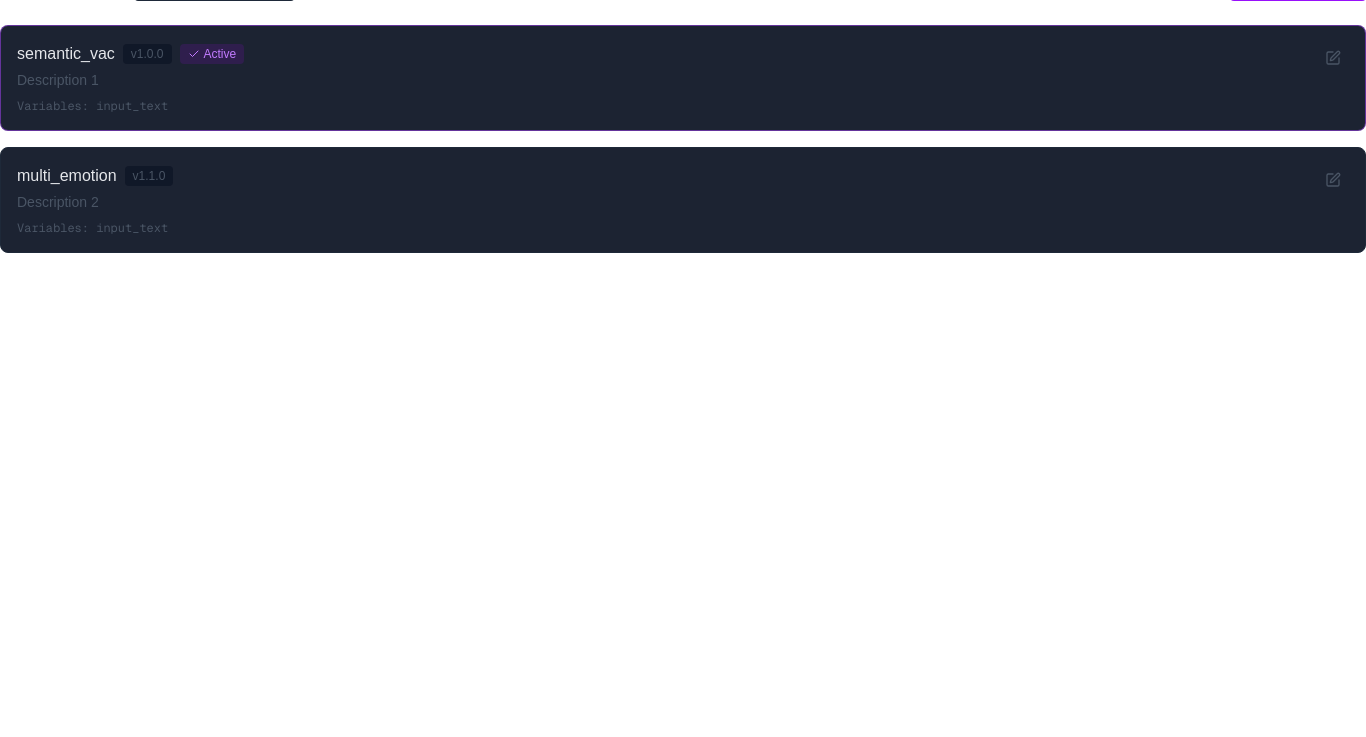
Scenario: PromptTemplatesTab › handles test render error
Step 1. Click the button with test id "edit-btn-uuid-1" → click(1333, 58), box top-left (1317, 42), bottom-right (1349, 74)
(page scrolled)
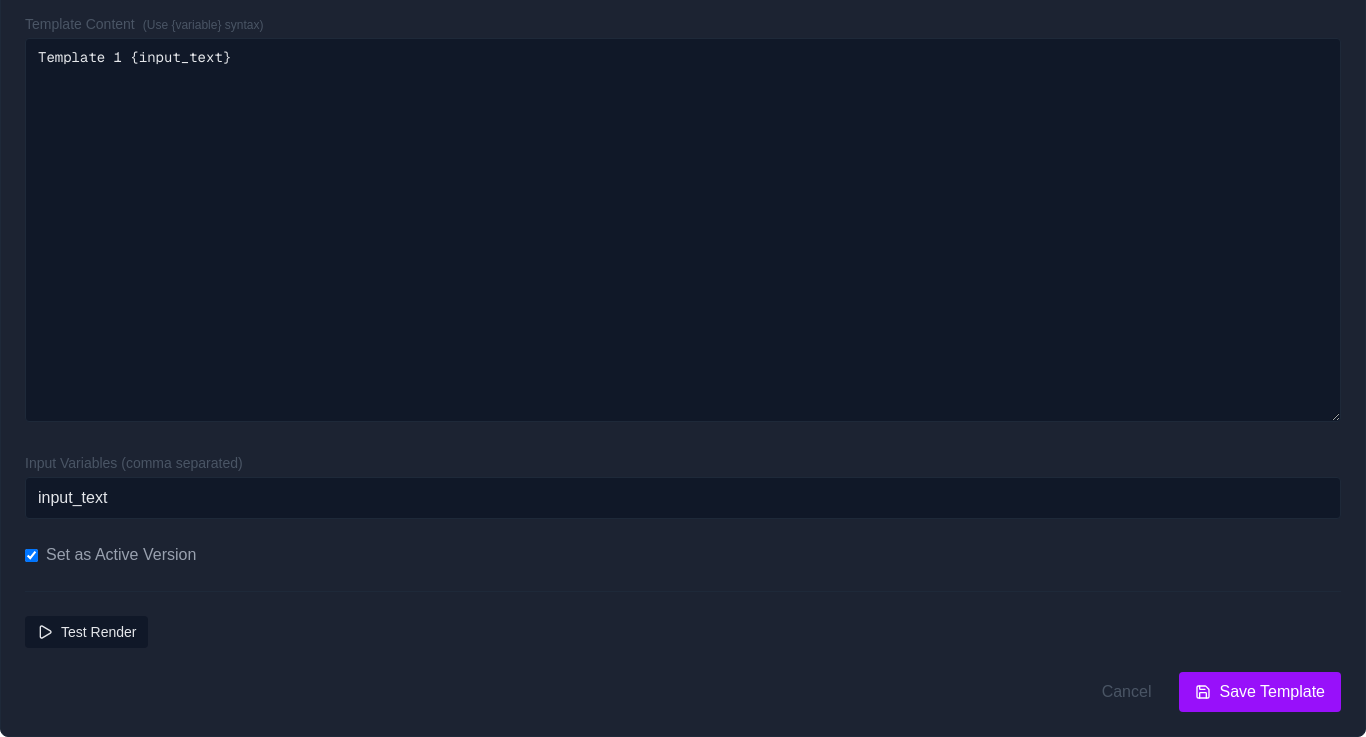
Step 2. Click the button "Test Render" → click(87, 632), box top-left (25, 616), bottom-right (148, 648)
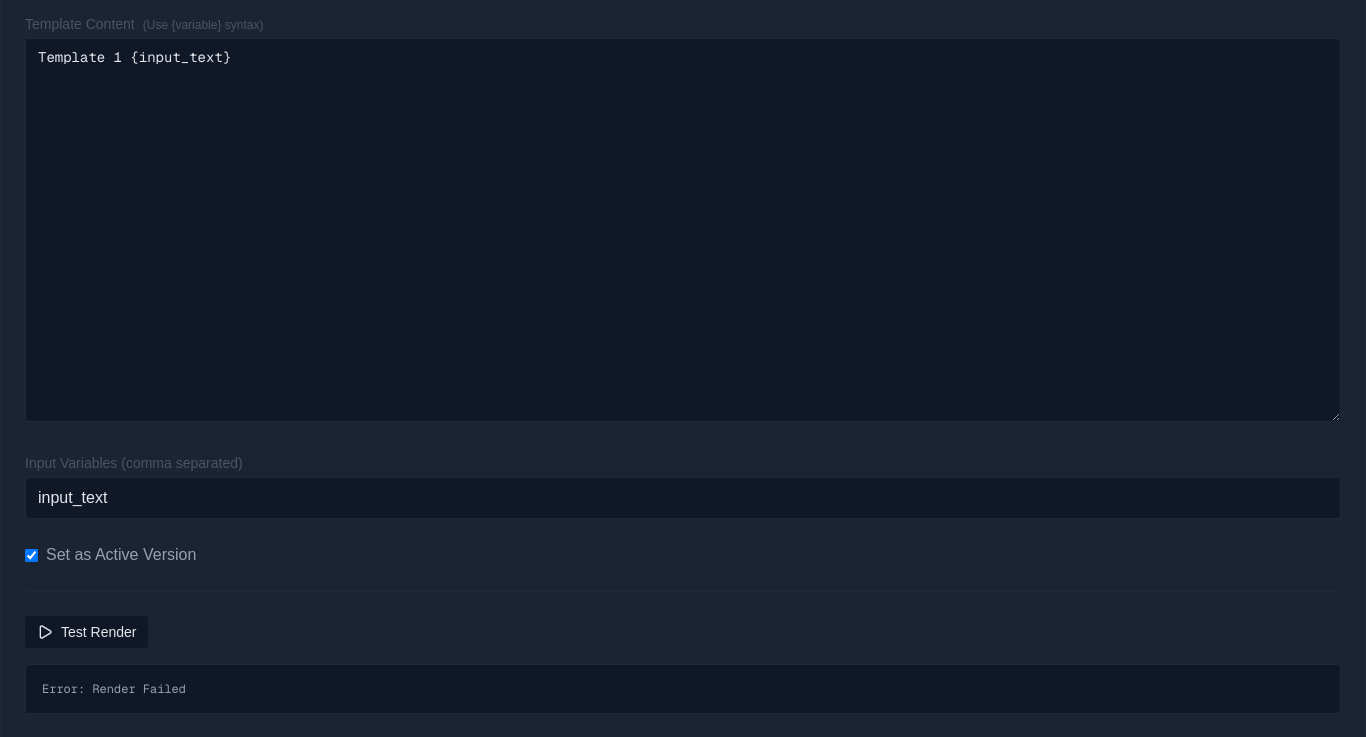
Check: the text "Error: Render Failed" is shown, box top-left (25, 664), bottom-right (1341, 714)
